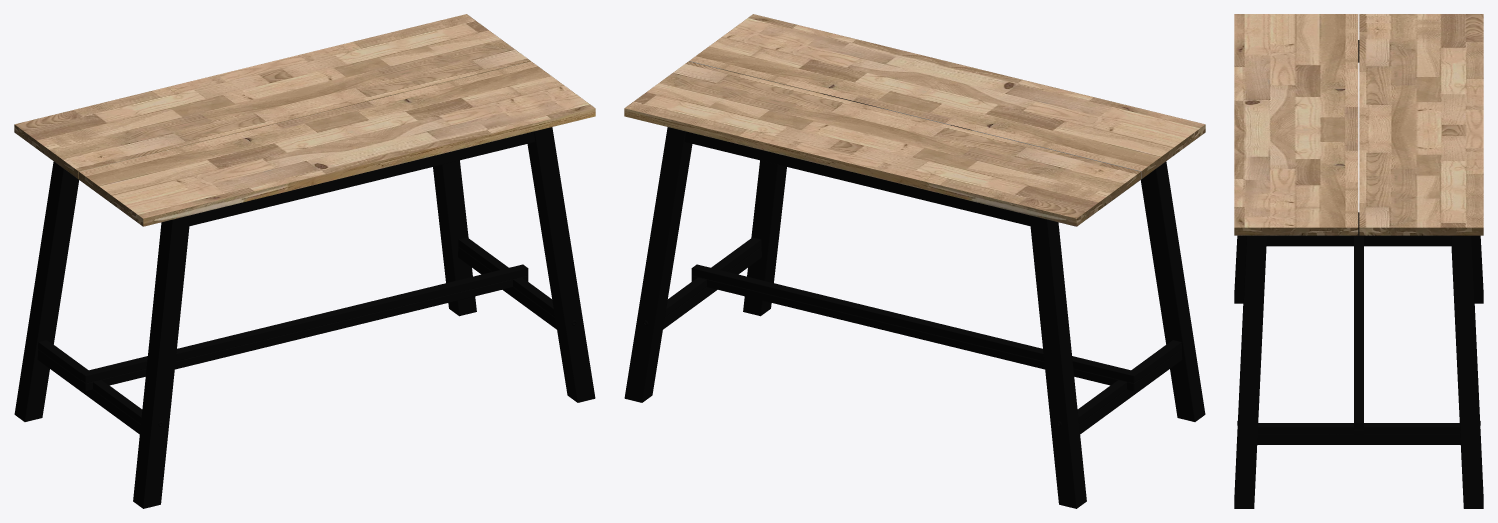
3 renders of one model, left to right at view 1: azimuth 30°, elevation 25°; view 2: azimuth 150°, elevation 25°; view 3: azimuth 270°, elevation 25°, orthographic. The views are drawn at different scales.
Visible parts, largest first — view 1: 90620680_90620680_de; view 2: 90620680_90620680_de; view 3: 90620680_90620680_de.
Part boxes in pixels (x1,y1,x2,y2): 90620680_90620680_de: (14,14,595,508); 90620680_90620680_de: (624,14,1205,508); 90620680_90620680_de: (1234,14,1483,508).
Bounding box in the file's own units: 1.5 × 0.9203 × 0.7401.
3 materials, 2 textured.
